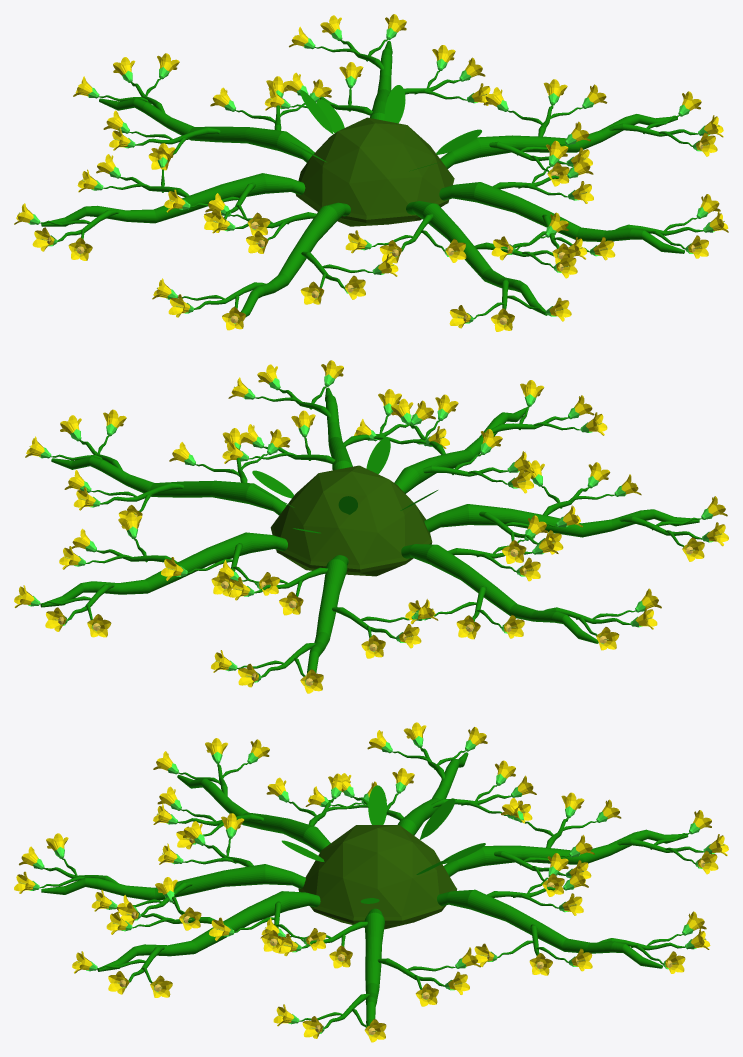
File: yellow_jessamine_FINAL.fbx
3 renders of one model, top to bottom at view 1: azimuth 30°, elevation 25°; view 2: azimuth 150°, elevation 25°; view 3: azimuth 270°, elevation 25°, orthographic. The views are drawn at different scales.
Parts seen in each view (by area): view 1: yj.mega_branch.007; view 2: yj.mega_branch.007; view 3: yj.mega_branch.007.
Boxes of the visible parts, x1,y1,x2,y2 form: yj.mega_branch.007: (14, 14, 728, 331); yj.mega_branch.007: (14, 360, 728, 693); yj.mega_branch.007: (14, 722, 728, 1042).
Size of the model in its own units: 521 by 76.77 by 514.
